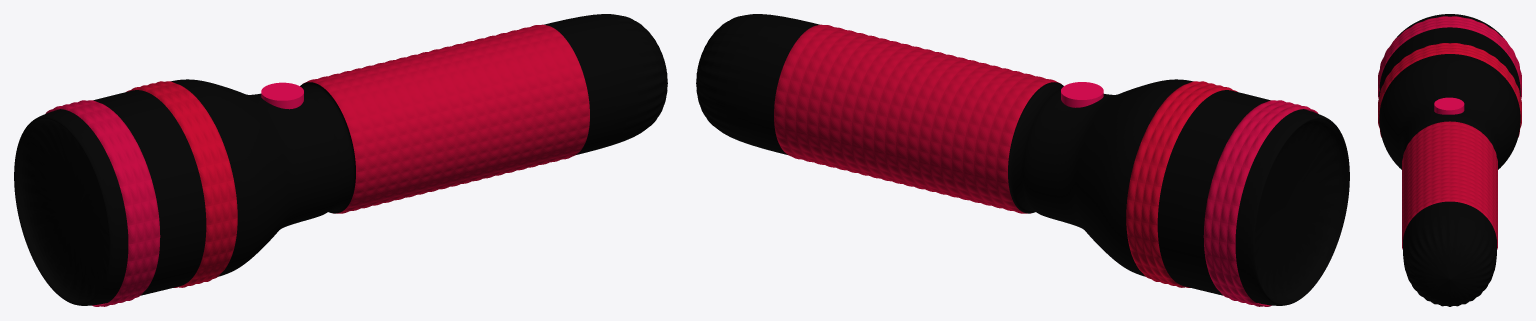
File: Flashlight.fbx
3 views of the same model, side by side, from view 1: azimuth 30°, elevation 25°; view 2: azimuth 150°, elevation 25°; view 3: azimuth 270°, elevation 25° (orthographic). The views are drawn at different scales.
Visible parts, largest first — view 1: Cylinder, Cylinder.001, Cylinder.003, Cylinder.002, Cylinder.004; view 2: Cylinder, Cylinder.001, Cylinder.003, Cylinder.002, Cylinder.004; view 3: Cylinder, Cylinder.001, Cylinder.002, Cylinder.003, Cylinder.004.
Boxes of the visible parts, x1=… form: Cylinder: x1=14, y1=14, x2=667, y2=305; Cylinder.001: x1=303, y1=24, x2=589, y2=213; Cylinder.003: x1=45, y1=100, x2=160, y2=306; Cylinder.002: x1=126, y1=81, x2=237, y2=287; Cylinder.004: x1=261, y1=82, x2=303, y2=109; Cylinder: x1=696, y1=14, x2=1349, y2=305; Cylinder.001: x1=774, y1=24, x2=1060, y2=213; Cylinder.003: x1=1203, y1=100, x2=1318, y2=306; Cylinder.002: x1=1126, y1=81, x2=1237, y2=287; Cylinder.004: x1=1061, y1=82, x2=1103, y2=107; Cylinder: x1=1379, y1=14, x2=1520, y2=306; Cylinder.001: x1=1402, y1=121, x2=1497, y2=249; Cylinder.002: x1=1378, y1=43, x2=1521, y2=137; Cylinder.003: x1=1378, y1=16, x2=1521, y2=98; Cylinder.004: x1=1434, y1=97, x2=1464, y2=114.
Bounding box in the file's own units: 1020 × 303 × 303.
